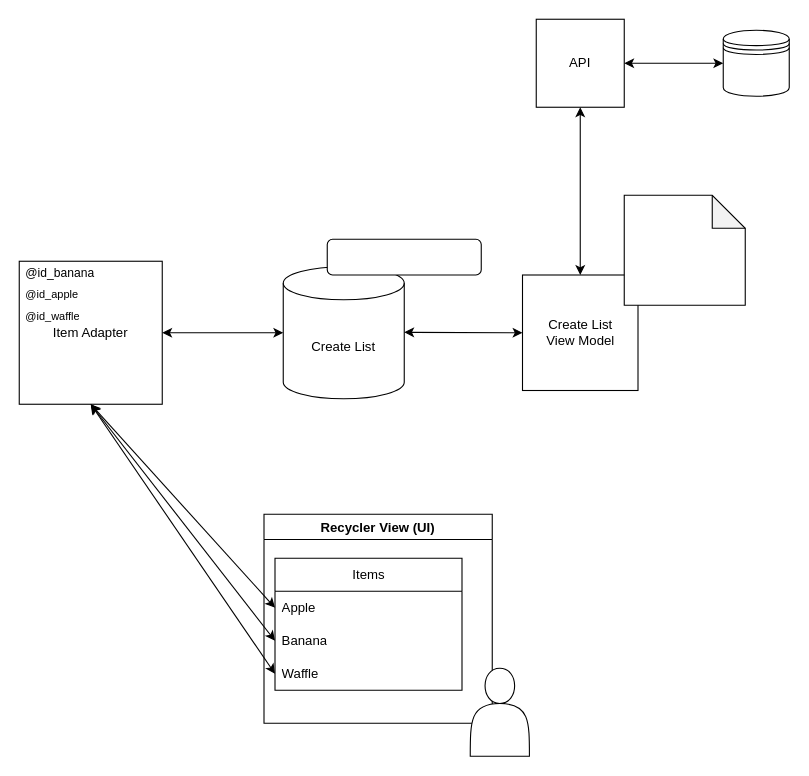
This 809x776 diagram has some shape labels left out. The shapes that lost their labels are listed below. From the top down, each one's centre as x and y in pixels, then its label:
point (755, 62): DB
point (403, 256): val items: item = listOf()
point (684, 249): {"items: {"apple":0.34}, {"banana":0.61}, ... }
